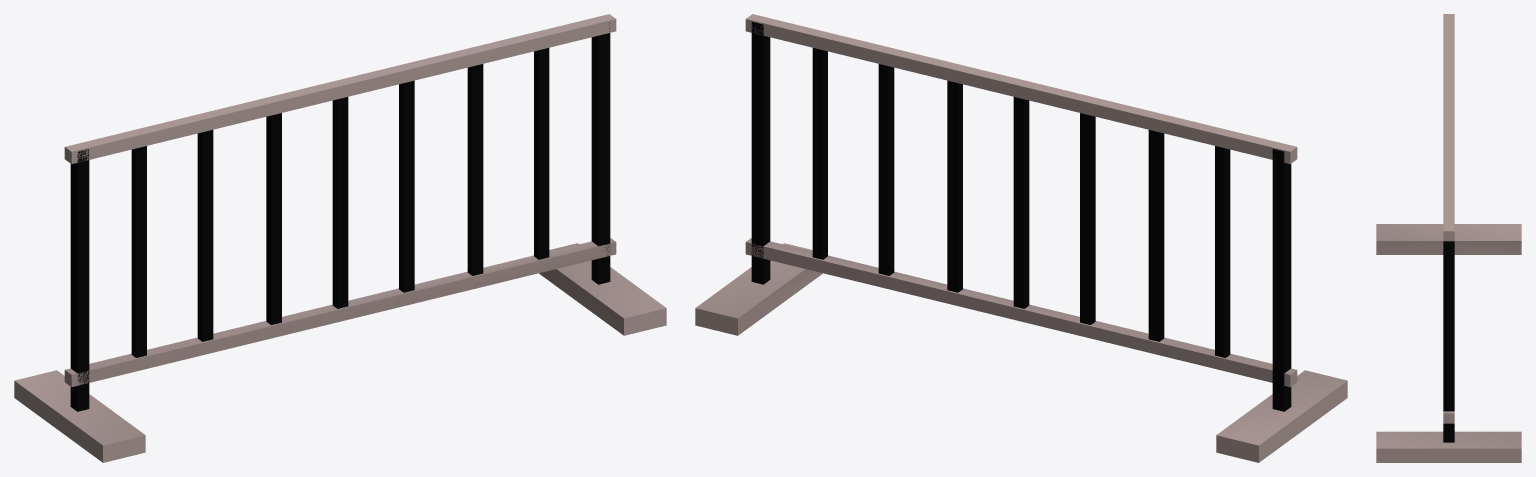
The picture shows the model from 3 angles, left to right: view 1: azimuth 30°, elevation 25°; view 2: azimuth 150°, elevation 25°; view 3: azimuth 270°, elevation 25°; orthographic projection. The views are drawn at different scales.
Visible parts, largest first — view 1: body_pal_sidewalk; view 2: body_pal_sidewalk; view 3: body_pal_sidewalk.
Part boxes in pixels (box(x1,y1,x2,y2)): body_pal_sidewalk: box(14, 14, 666, 462); body_pal_sidewalk: box(695, 14, 1347, 462); body_pal_sidewalk: box(1376, 14, 1521, 462).
Bounding box in the file's own units: 2.38 × 1.12 × 0.65.
